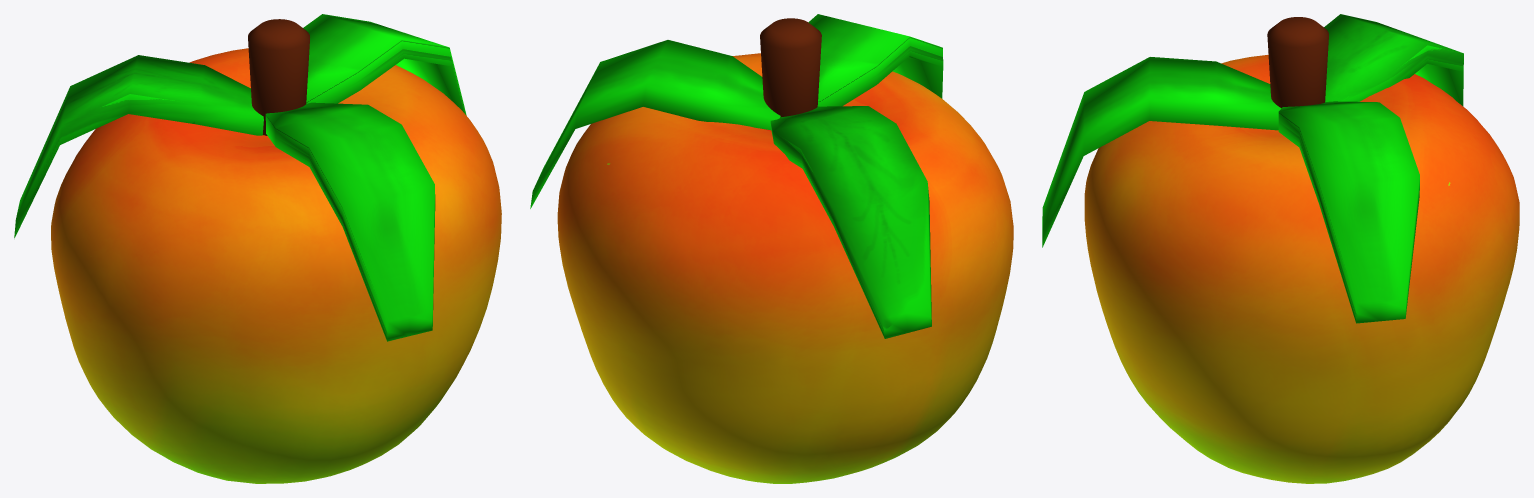
File: wumpa.glb
The picture shows the model from 3 angles, left to right: view 1: azimuth 30°, elevation 25°; view 2: azimuth 150°, elevation 25°; view 3: azimuth 270°, elevation 25°; orthographic projection.
Parts seen in each view (by area): view 1: Cylinder; view 2: Cylinder; view 3: Cylinder.
Part boxes in pixels (x1,y1,x2,y2): Cylinder: (14,14,501,483); Cylinder: (530,14,1013,483); Cylinder: (1042,14,1519,483).
Size of the model in its own units: 3.56 by 3.43 by 3.49.
Materials: 4 (3 with a texture image).
